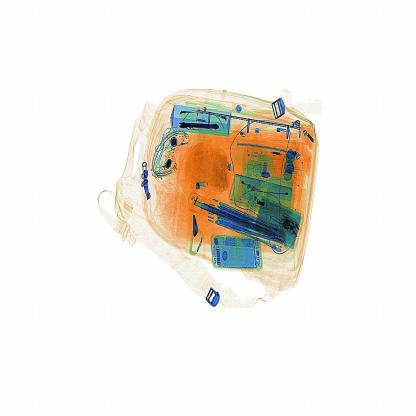knife: (173, 109, 225, 143)
